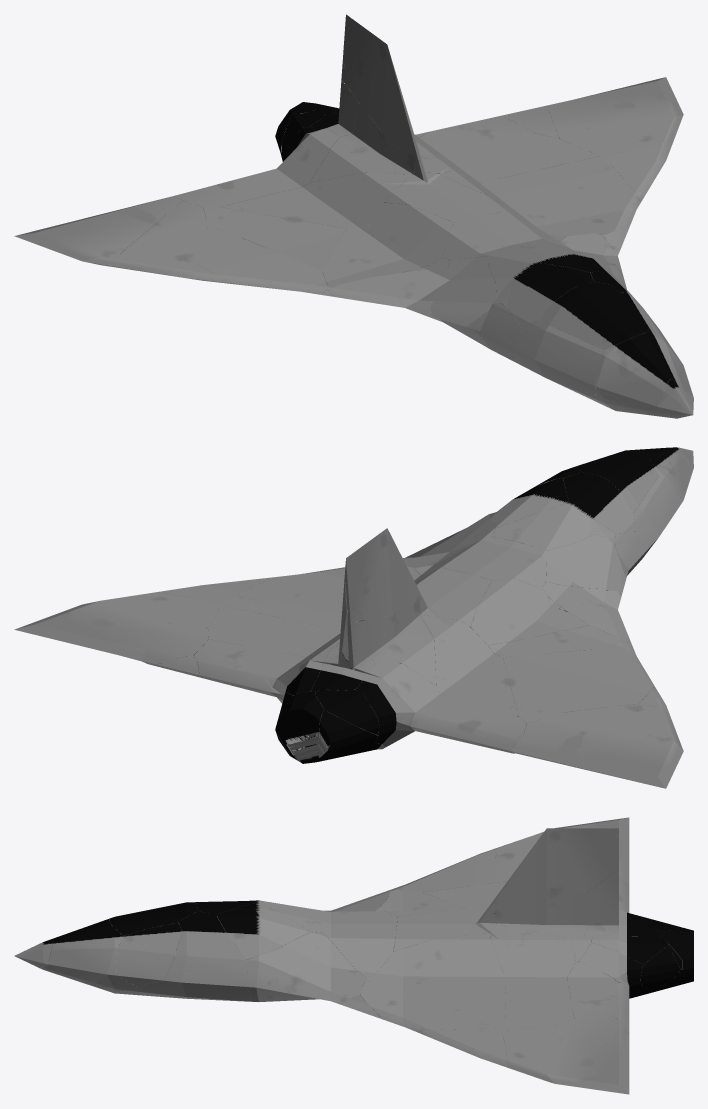
File: shattered_plane.fbx
3 views of the same model, one above another, from view 1: azimuth 30°, elevation 25°; view 2: azimuth 150°, elevation 25°; view 3: azimuth 270°, elevation 25° (orthographic). The views are drawn at different scales.
Parts seen in each view (by area): view 1: PlaneModel_cell.019, PlaneModel_cell.054, PlaneModel_cell.026, PlaneModel_cell.049, PlaneModel_cell.068, PlaneModel_cell.016, PlaneModel_cell.079, PlaneModel_cell.057, PlaneModel_cell.022, PlaneModel_cell.027, PlaneModel_cell.055, PlaneModel_cell.077 (+20 smaller); view 2: PlaneModel_cell.055, PlaneModel_cell.054, PlaneModel_cell.079, PlaneModel_cell.026, PlaneModel_cell.019, PlaneModel_cell.068, PlaneModel_cell.022, PlaneModel_cell.077, PlaneModel_cell.057, PlaneModel_cell.016, PlaneModel_cell.031, PlaneModel_cell.009 (+23 smaller); view 3: PlaneModel_cell.019, PlaneModel_cell.068, PlaneModel_cell.057, PlaneModel_cell.054, PlaneModel_cell.050, PlaneModel_cell.002, PlaneModel_cell.049, PlaneModel_cell.009, PlaneModel_cell.008, PlaneModel_cell.040, PlaneModel_cell.031, PlaneModel_cell.071 (+19 smaller).
Part boxes in pixels (x1,y1,x2,y2): PlaneModel_cell.019: (439,156,640,235); PlaneModel_cell.054: (547,77,683,164); PlaneModel_cell.026: (220,172,412,228); PlaneModel_cell.049: (595,331,692,418); PlaneModel_cell.068: (342,18,421,165); PlaneModel_cell.016: (193,225,327,294); PlaneModel_cell.079: (14,196,181,266); PlaneModel_cell.057: (416,133,599,182); PlaneModel_cell.022: (367,202,453,277); PlaneModel_cell.027: (539,282,650,350); PlaneModel_cell.055: (174,126,340,206); PlaneModel_cell.077: (202,207,346,271); PlaneModel_cell.055: (356,662,526,753); PlaneModel_cell.054: (14,592,221,660); PlaneModel_cell.079: (512,734,683,788); PlaneModel_cell.026: (420,615,518,716); PlaneModel_cell.019: (221,566,430,669); PlaneModel_cell.068: (342,528,421,620); PlaneModel_cell.022: (471,578,588,645); PlaneModel_cell.077: (503,649,594,723); PlaneModel_cell.057: (208,605,348,659); PlaneModel_cell.016: (560,642,654,712); PlaneModel_cell.031: (193,639,317,740); PlaneModel_cell.009: (414,536,551,643); PlaneModel_cell.019: (360,932,506,1035); PlaneModel_cell.068: (488,828,618,913); PlaneModel_cell.057: (490,925,575,1030); PlaneModel_cell.054: (503,1025,629,1094); PlaneModel_cell.050: (247,932,366,1001); PlaneModel_cell.002: (136,911,251,1001); PlaneModel_cell.049: (41,919,137,991); PlaneModel_cell.009: (322,910,397,985); PlaneModel_cell.008: (116,922,181,985); PlaneModel_cell.040: (217,902,309,959); PlaneModel_cell.031: (567,960,652,1018); PlaneModel_cell.071: (494,892,590,975).
Size of the model in its own units: 1003 by 270 by 1040.
Materials: 1 (1 with a texture image).
